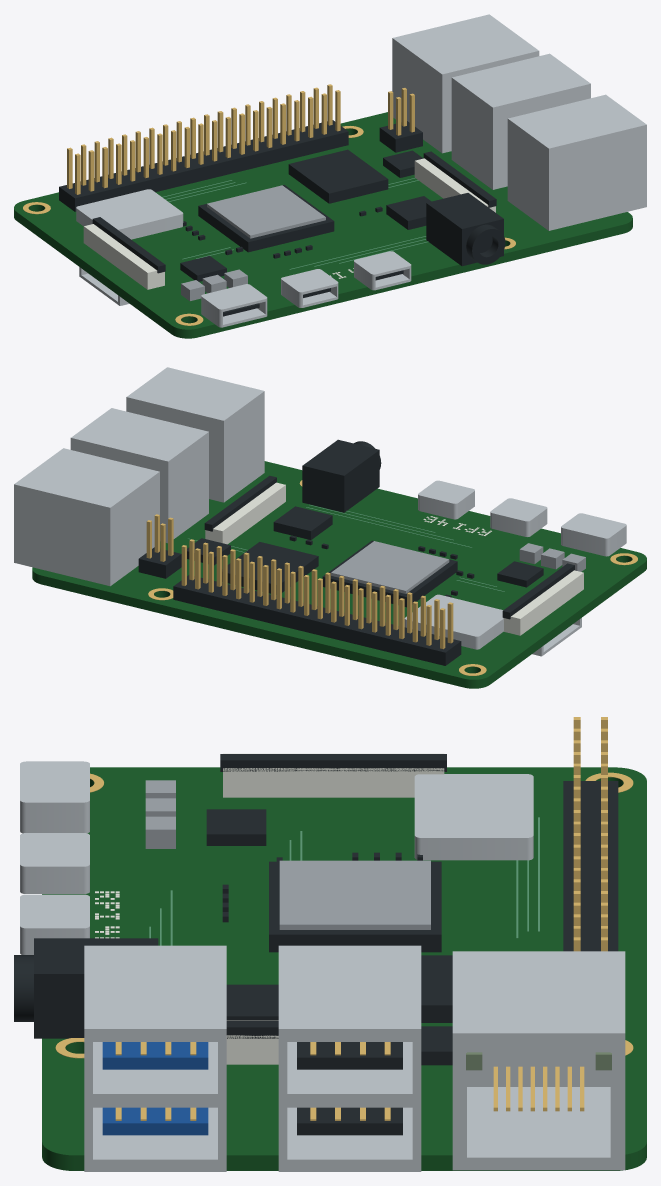
3 renders of one model, top to bottom at view 1: azimuth 30°, elevation 25°; view 2: azimuth 150°, elevation 25°; view 3: azimuth 270°, elevation 25°, orthographic. The views are drawn at different scales.
Visible parts, largest first — view 1: PCB_substrate_and_mounting_holes, USB_3_dual_socket_shield, USB_2_dual_socket_shield, GPIO_contact_pins, Ethernet_shield, GPIO_insulating_body, Processor_heat_spreader, Audio_jack_body, LPDDR4_memory_package, Wireless_module_shield, Processor_package_substrate, USB-C_power_shield (+16 smaller); view 2: PCB_substrate_and_mounting_holes, Ethernet_shield, USB_3_dual_socket_shield, GPIO_contact_pins, USB_2_dual_socket_shield, GPIO_insulating_body, Audio_jack_body, Processor_heat_spreader, Wireless_module_shield, USB-C_power_shield, Display_DSI_ribbon_connector_body, LPDDR4_memory_package (+15 smaller); view 3: PCB_substrate_and_mounting_holes, Ethernet_shield, USB_2_dual_socket_shield, USB_3_dual_socket_shield, Processor_heat_spreader, Wireless_module_shield, GPIO_insulating_body, Display_DSI_ribbon_connector_body, Audio_jack_body, USB_3_dual_socket_tongues, USB_2_dual_socket_tongues, USB-C_power_shield (+19 smaller).
Part boxes in pixels (x1=…): PCB_substrate_and_mounting_holes: x1=14, y1=112, x2=632, y2=338; USB_3_dual_socket_shield: x1=507, y1=94, x2=646, y2=230; USB_2_dual_socket_shield: x1=451, y1=53, x2=590, y2=189; GPIO_contact_pins: x1=67, y1=84, x2=340, y2=194; Ethernet_shield: x1=392, y1=14, x2=539, y2=153; GPIO_insulating_body: x1=59, y1=120, x2=348, y2=211; Processor_heat_spreader: x1=207, y1=185, x2=325, y2=238; Audio_jack_body: x1=426, y1=193, x2=503, y2=266; LPDDR4_memory_package: x1=288, y1=149, x2=388, y2=203; Wireless_module_shield: x1=76, y1=189, x2=183, y2=239; Processor_package_substrate: x1=198, y1=185, x2=334, y2=252; USB-C_power_shield: x1=201, y1=284, x2=267, y2=327; PCB_substrate_and_mounting_holes: x1=32, y1=461, x2=646, y2=688; Ethernet_shield: x1=14, y1=448, x2=159, y2=586; USB_3_dual_socket_shield: x1=126, y1=367, x2=264, y2=502; GPIO_contact_pins: x1=181, y1=539, x2=453, y2=649; USB_2_dual_socket_shield: x1=70, y1=408, x2=208, y2=543; GPIO_insulating_body: x1=173, y1=575, x2=461, y2=665; Audio_jack_body: x1=302, y1=439, x2=379, y2=512; Processor_heat_spreader: x1=331, y1=541, x2=449, y2=593; Wireless_module_shield: x1=404, y1=594, x2=503, y2=649; USB-C_power_shield: x1=561, y1=513, x2=626, y2=556; Display_DSI_ribbon_connector_body: x1=503, y1=570, x2=583, y2=635; LPDDR4_memory_package: x1=222, y1=542, x2=318, y2=594; PCB_substrate_and_mounting_holes: x1=42, y1=767, x2=646, y2=1170; Ethernet_shield: x1=452, y1=951, x2=625, y2=1170; USB_2_dual_socket_shield: x1=278, y1=945, x2=421, y2=1171; USB_3_dual_socket_shield: x1=84, y1=945, x2=226, y2=1171; Processor_heat_spreader: x1=279, y1=860, x2=430, y2=929; Wireless_module_shield: x1=414, y1=774, x2=533, y2=860; GPIO_insulating_body: x1=563, y1=781, x2=618, y2=951; Display_DSI_ribbon_connector_body: x1=223, y1=753, x2=444, y2=797; Audio_jack_body: x1=34, y1=938, x2=158, y2=1038; USB_3_dual_socket_tongues: x1=102, y1=1042, x2=208, y2=1135; USB_2_dual_socket_tongues: x1=297, y1=1042, x2=402, y2=1135; USB-C_power_shield: x1=20, y1=761, x2=89, y2=833.
Size of the model in its own units: 0.0887 by 0.0189 by 0.0586.
